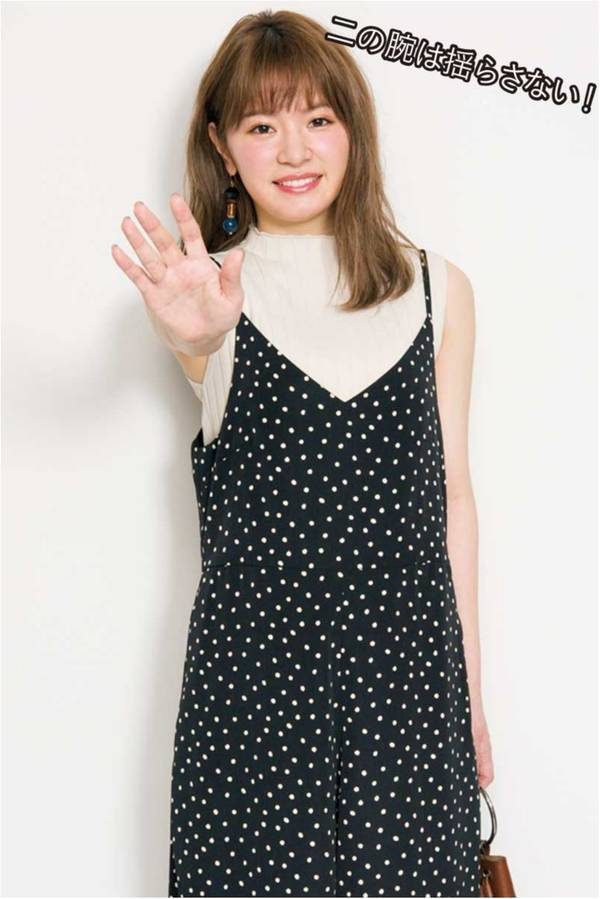face: (208, 69, 351, 225)
hand: (104, 193, 249, 355)
